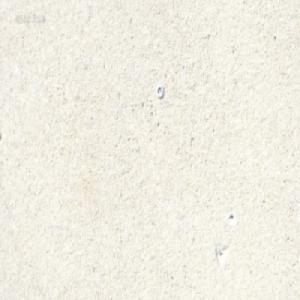Washer: (156, 84, 163, 98)
